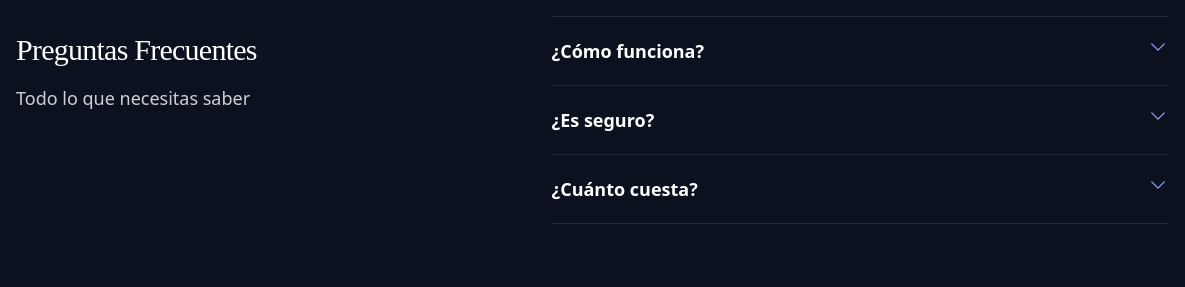
Test: FaqSection › oculta la respuesta al hacer clic de nuevo
Click the button "¿Cómo funciona?": (628, 51) x1=552 y1=17 x2=1168 y2=85
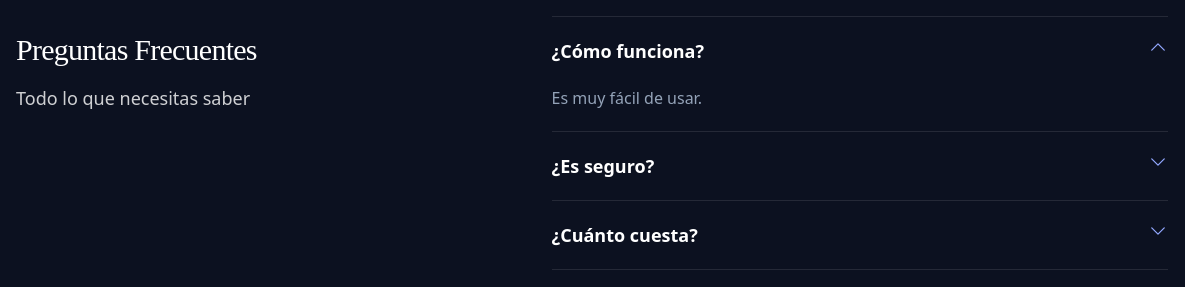
Now the text "Es muy fácil de usar." is shown, box x1=552 y1=87 x2=702 y2=109
Click the button "¿Cómo funciona?": (628, 51) x1=552 y1=17 x2=1168 y2=85
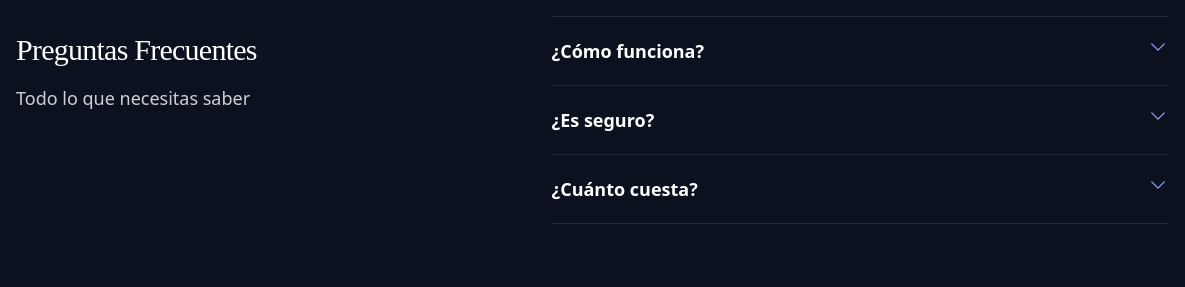
Now the text "Es muy fácil de usar." is gone
